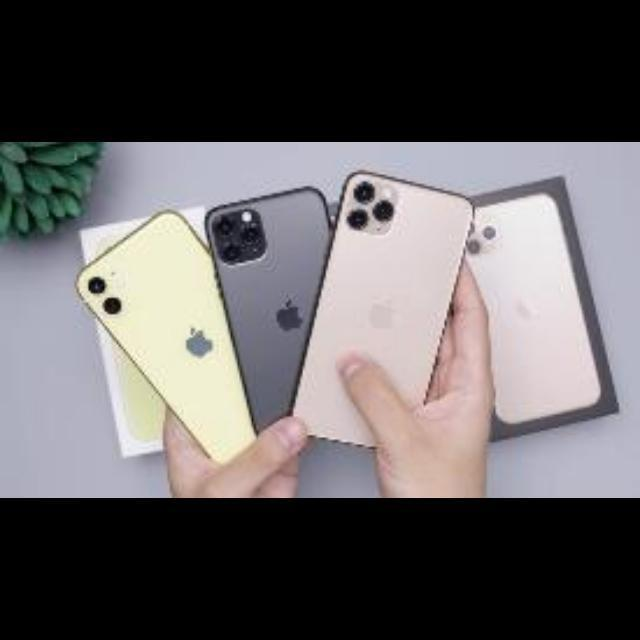PhoneUse: (294, 170, 474, 450), (79, 209, 258, 465), (206, 186, 330, 434)
